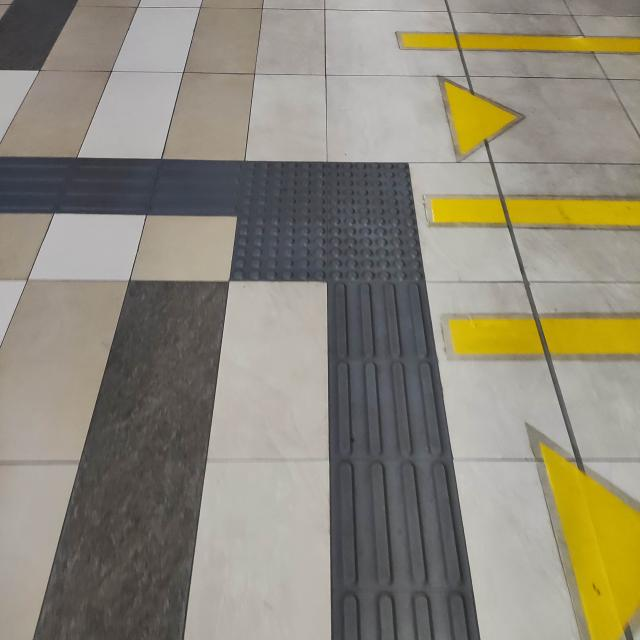kiri: (103, 126, 483, 328)
